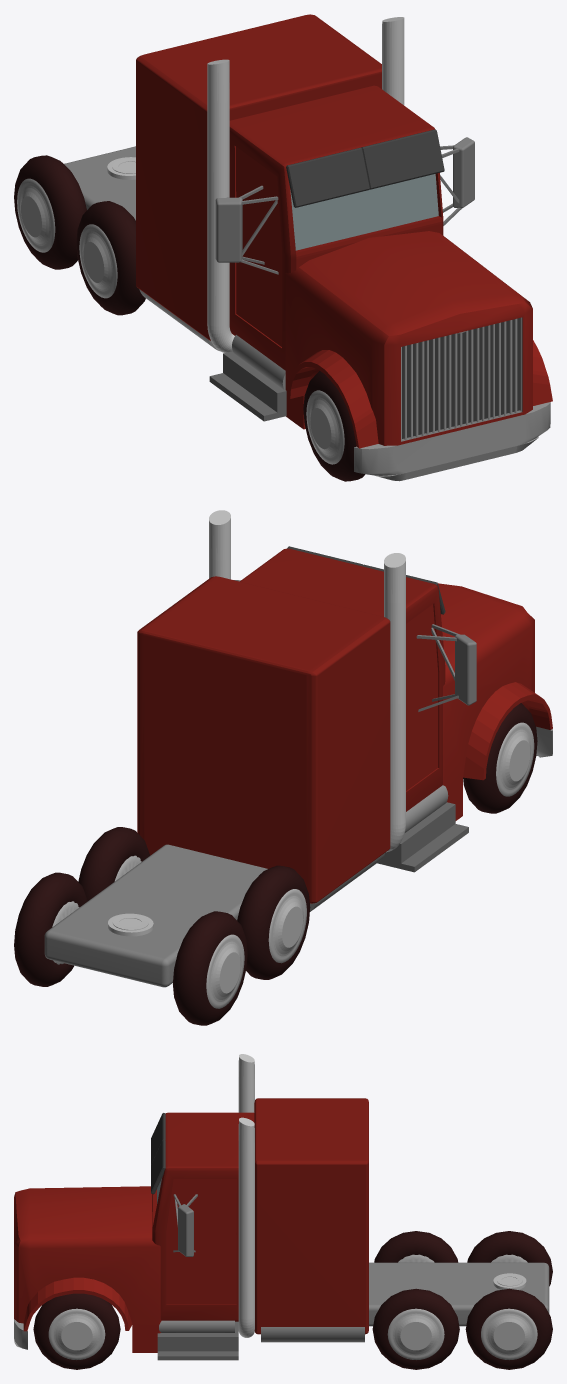
File: 18Wheeler.fbx
The picture shows the model from 3 angles, top to bottom: view 1: azimuth 30°, elevation 25°; view 2: azimuth 150°, elevation 25°; view 3: azimuth 270°, elevation 25°; orthographic projection. The views are drawn at different scales.
Visible parts, largest first — view 1: pCube2, pCube4, pCube3, pCylinder12, pCylinder47, pCylinder49, pCylinder48, pCylinder9, pCube8, pCube5, pCube16, pCube7 (+3 smaller); view 2: pCube4, pCube10, pCube2, pCube3, pCylinder49, pCylinder48, pCylinder12, pCylinder9, pCube7, pCube16, pCylinder50, pCylinder15; view 3: pCube4, pCube2, pCube3, pCylinder49, pCylinder48, pCube10, pCylinder9, pCylinder12, pCube7, pCylinder10, pCylinder14, pCube16 (+3 smaller).
Part boxes in pixels (x1,y1,x2,y2): pCube2: [285, 231, 552, 481]; pCube4: [136, 14, 381, 340]; pCube3: [229, 85, 443, 370]; pCylinder12: [207, 17, 404, 352]; pCylinder47: [401, 317, 521, 441]; pCylinder49: [14, 155, 86, 269]; pCylinder48: [76, 201, 145, 315]; pCylinder9: [303, 371, 365, 481]; pCube8: [286, 147, 369, 207]; pCube5: [361, 129, 444, 189]; pCube16: [215, 137, 474, 262]; pCube7: [209, 351, 286, 421]; pCube4: [137, 576, 390, 903]; pCube10: [44, 844, 267, 987]; pCube2: [438, 583, 552, 820]; pCube3: [240, 548, 445, 811]; pCylinder49: [14, 872, 247, 1025]; pCylinder48: [78, 827, 310, 979]; pCylinder12: [209, 510, 405, 852]; pCylinder9: [463, 703, 537, 813]; pCube7: [377, 802, 468, 872]; pCube16: [234, 580, 476, 705]; pCylinder50: [108, 913, 153, 936]; pCylinder15: [404, 785, 448, 832]; pCube4: [254, 1098, 368, 1334]; pCube2: [14, 1186, 161, 1352]; pCube3: [152, 1112, 254, 1321]; pCylinder49: [465, 1231, 552, 1369]; pCylinder48: [372, 1231, 459, 1369]; pCube10: [369, 1262, 549, 1326]; pCylinder9: [33, 1293, 120, 1369]; pCylinder12: [238, 1054, 254, 1337]; pCube7: [157, 1321, 238, 1360]; pCylinder10: [261, 1327, 364, 1342]; pCylinder14: [159, 1320, 234, 1332]; pCube16: [178, 1204, 193, 1256].
Bounding box in the file's own units: 3.56 × 4.46 × 8.65.
